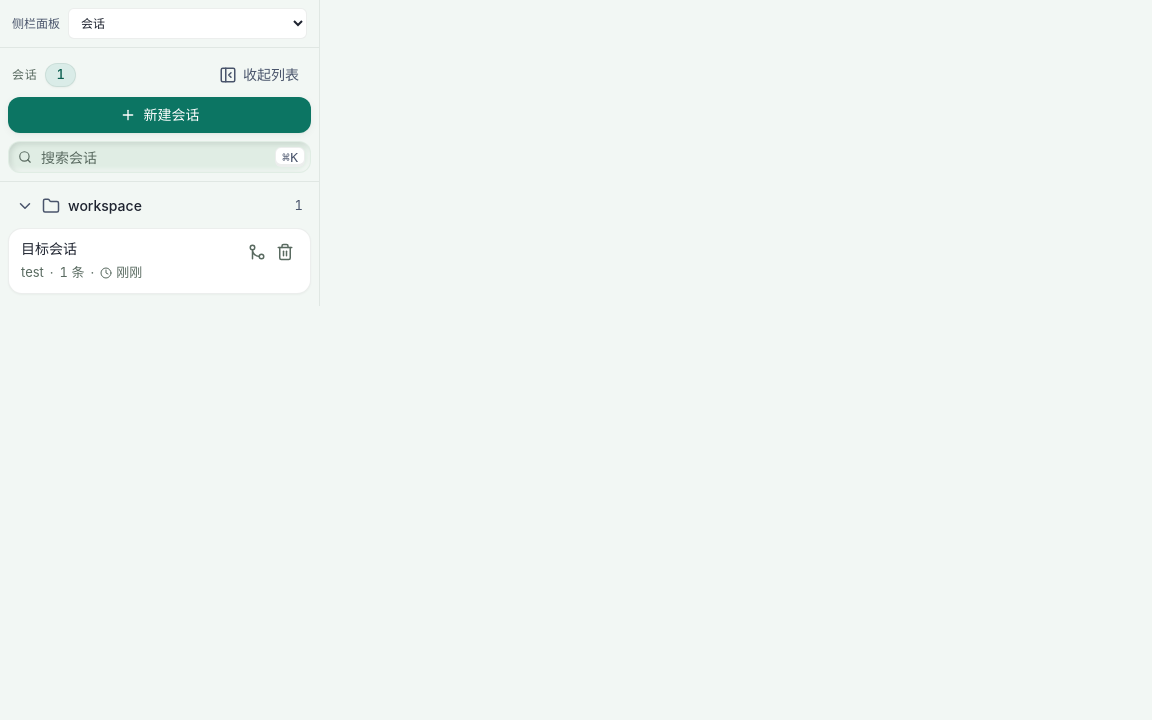
it: 点击垃圾桶弹出确认气泡，此时尚未发出 DELETE 请求
Expected: the text "目标会话" is shown, [21,240,77,257]
Step 1. Click the button named "删除会话" → point(285, 252), box [272,239,298,265]
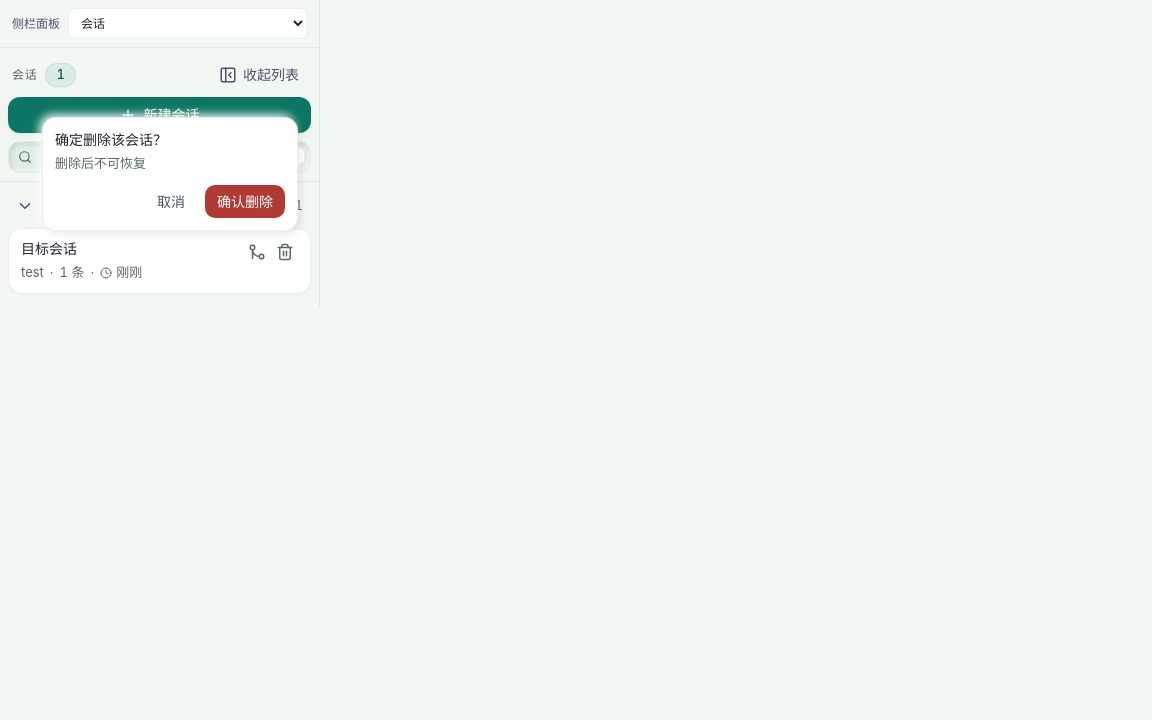
Expected: the text "确定删除该会话？" is shown, [55,130,167,148]
Expected: the text "删除后不可恢复" is shown, [55,154,146,170]
